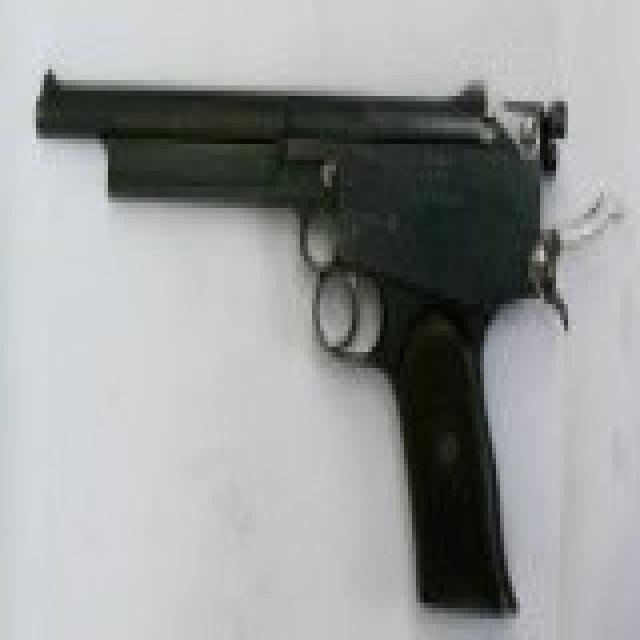Gun: (23, 33, 602, 620)
